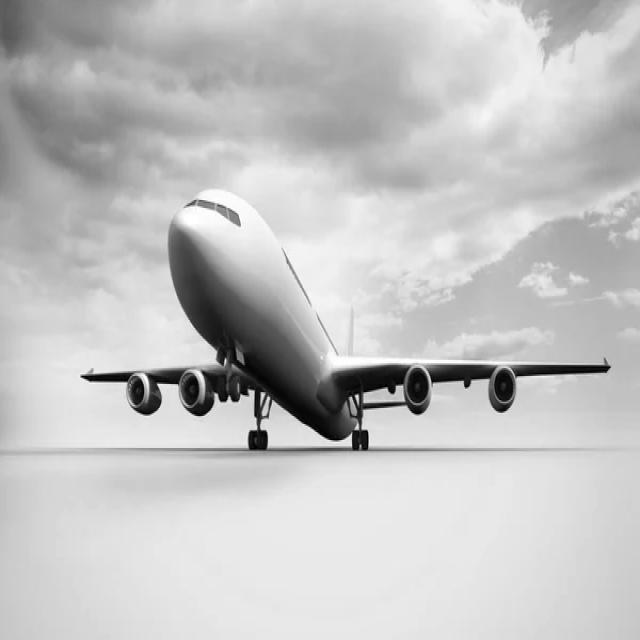Aircraft: (84, 184, 611, 463)
